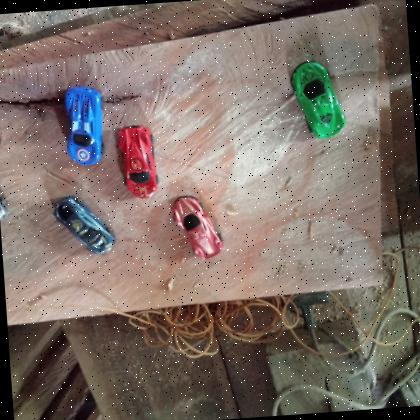Car: (289, 60, 348, 142), (52, 192, 118, 258), (170, 192, 226, 264), (62, 85, 109, 167), (115, 124, 162, 202)
